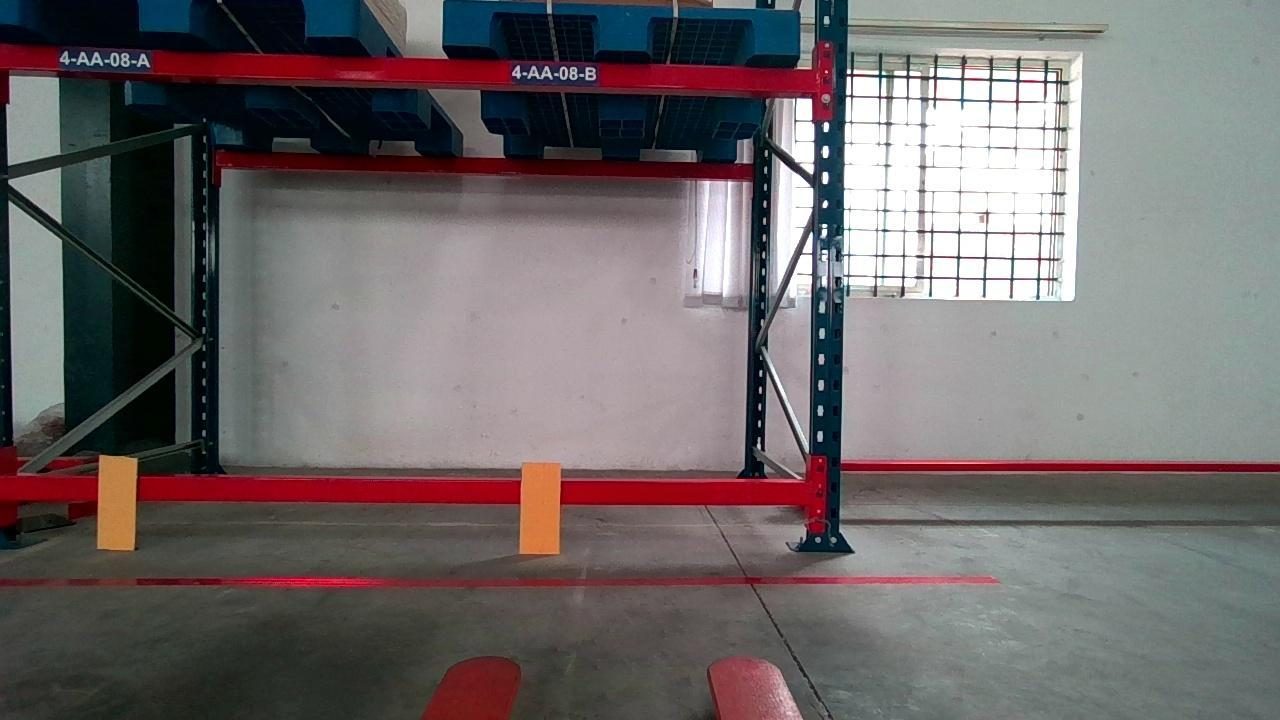h_rack: (2, 45, 820, 92), (2, 476, 811, 507)
orange_strip: (518, 461, 562, 553), (96, 457, 137, 548)
red_line: (1, 571, 999, 589)
small_pallet: (442, 0, 802, 55), (0, 0, 358, 37)
